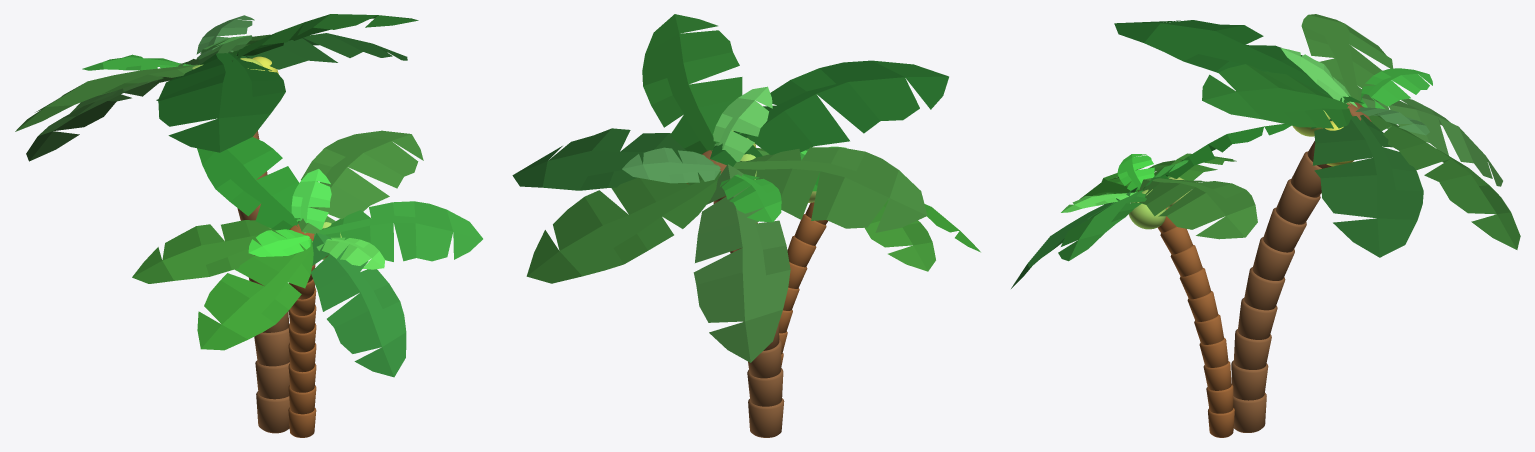
File: Coconut tree_Keiko.glb
3 views of the same model, side by side, from view 1: azimuth 30°, elevation 25°; view 2: azimuth 150°, elevation 25°; view 3: azimuth 270°, elevation 25° (orthographic). The views are drawn at different scales.
Parts seen in each view (by area): view 1: 平面.005, 平面.017, 平面.016, 平面.012, 平面.013, 平面.014, 平面.015, 柱体.001, 柱体, 平面, 平面.002, 平面.004 (+7 smaller); view 2: 平面, 平面.005, 平面.001, 平面.004, 平面.003, 平面.002, 柱体, 平面.006, 平面.007, 柱体.001, 平面.015, 平面.008 (+1 smaller); view 3: 平面.002, 柱体, 平面.005, 平面.003, 柱体.001, 平面.012, 平面.001, 平面.004, 平面, 平面.013, 平面.008, 平面.014 (+8 smaller).
Part boxes in pixels (x1,y1,x2,y2): 平面.005: [156, 52, 285, 152]; 平面.017: [311, 233, 406, 377]; 平面.016: [197, 239, 313, 350]; 平面.012: [297, 130, 423, 233]; 平面.013: [314, 201, 482, 261]; 平面.014: [197, 137, 310, 230]; 平面.015: [132, 220, 286, 283]; 柱体.001: [288, 224, 316, 437]; 柱体: [237, 130, 289, 433]; 平面: [26, 58, 198, 161]; 平面.002: [240, 33, 407, 71]; 平面.004: [15, 64, 199, 131]; 平面: [693, 164, 790, 362]; 平面.005: [710, 60, 948, 166]; 平面.001: [526, 171, 721, 283]; 平面.004: [733, 147, 927, 232]; 平面.003: [642, 14, 742, 154]; 平面.002: [512, 128, 699, 190]; 柱体: [702, 150, 784, 437]; 平面.006: [713, 86, 772, 162]; 平面.007: [622, 147, 720, 183]; 柱体.001: [779, 202, 827, 366]; 平面.015: [864, 200, 935, 271]; 平面.008: [720, 173, 781, 222]; 平面.002: [1310, 115, 1423, 257]; 柱体: [1231, 102, 1371, 432]; 平面.005: [1114, 20, 1364, 103]; 平面.003: [1202, 64, 1351, 128]; 柱体.001: [1138, 190, 1234, 437]; 平面.012: [1135, 178, 1257, 239]; 平面.001: [1368, 113, 1520, 249]; 平面.004: [1301, 14, 1393, 104]; 平面: [1362, 94, 1502, 186]; 平面.013: [1058, 190, 1146, 261]; 平面.008: [1360, 68, 1432, 109]; 平面.014: [1153, 124, 1291, 188].
Bounding box in the file's own units: 18.68 × 17.09 × 20.45.
